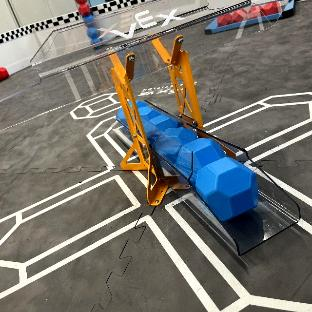V5_BLUE: (189, 157, 258, 220), (176, 138, 224, 181)
